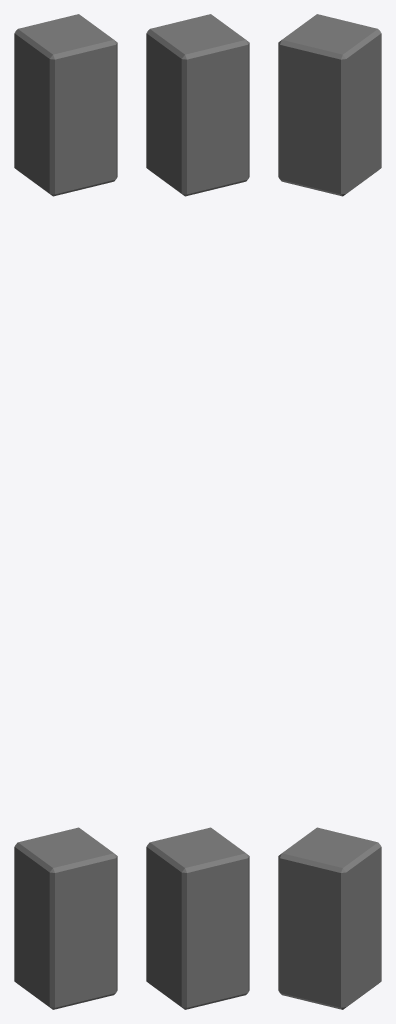
Rendered from Door_02.fbx.
3 renders of one model, left to right at view 1: azimuth 30°, elevation 25°; view 2: azimuth 210°, elevation 25°; view 3: azimuth 330°, elevation 25°, orthographic.
Parts seen in each view (by area): view 1: Door_02; view 2: Door_02; view 3: Door_02.
Part boxes in pixels (x1,y1,x2,y2): Door_02: (14, 14, 117, 1009); Door_02: (146, 14, 249, 1009); Door_02: (278, 14, 381, 1009).
Size of the model in its own units: 0.1 by 1.35 by 0.1.
